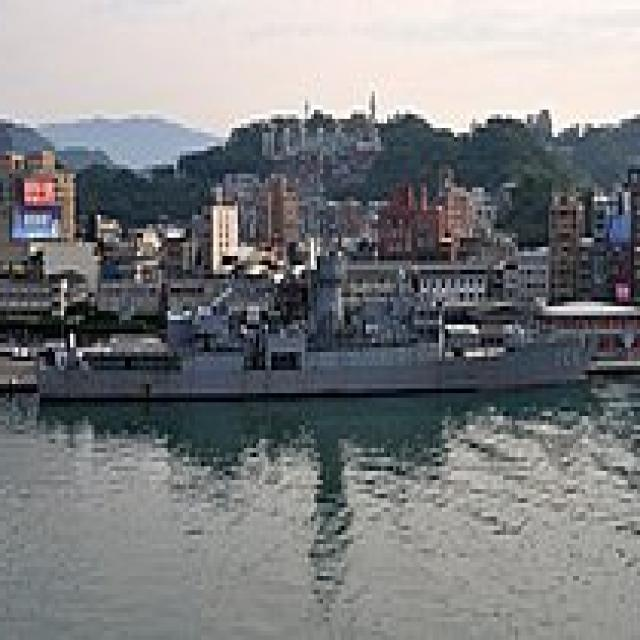Warship: (36, 228, 598, 398)
